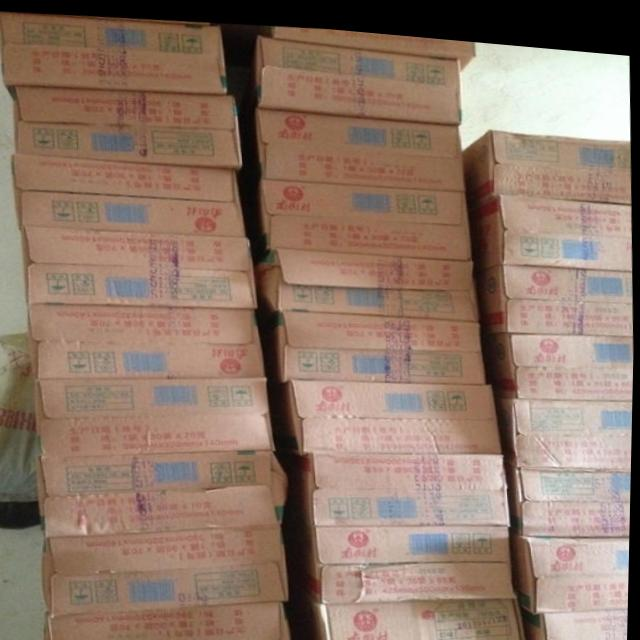box: (44, 519, 292, 616), (38, 446, 290, 535), (0, 12, 229, 100), (284, 513, 518, 599), (36, 372, 278, 455), (21, 224, 260, 304), (11, 152, 247, 231), (275, 443, 511, 520), (15, 85, 241, 165), (254, 30, 463, 116), (28, 303, 269, 377), (272, 373, 503, 448), (259, 305, 488, 380), (254, 176, 473, 254), (256, 103, 465, 183), (286, 575, 531, 640), (255, 243, 480, 312), (462, 121, 632, 197), (468, 186, 633, 264), (474, 255, 634, 326), (47, 597, 295, 640), (482, 323, 635, 389), (496, 386, 634, 459), (512, 522, 632, 604), (507, 455, 633, 527), (263, 21, 474, 60), (518, 594, 630, 640)
